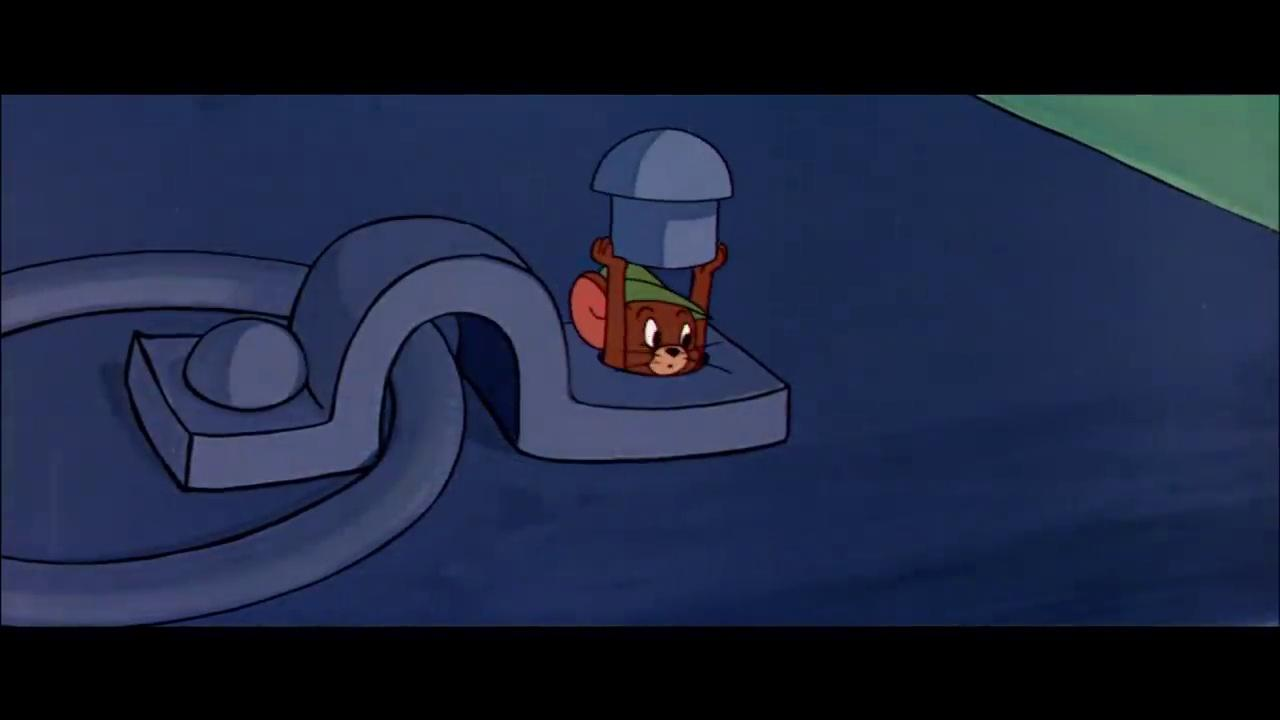Jerry: (567, 237, 729, 378)
